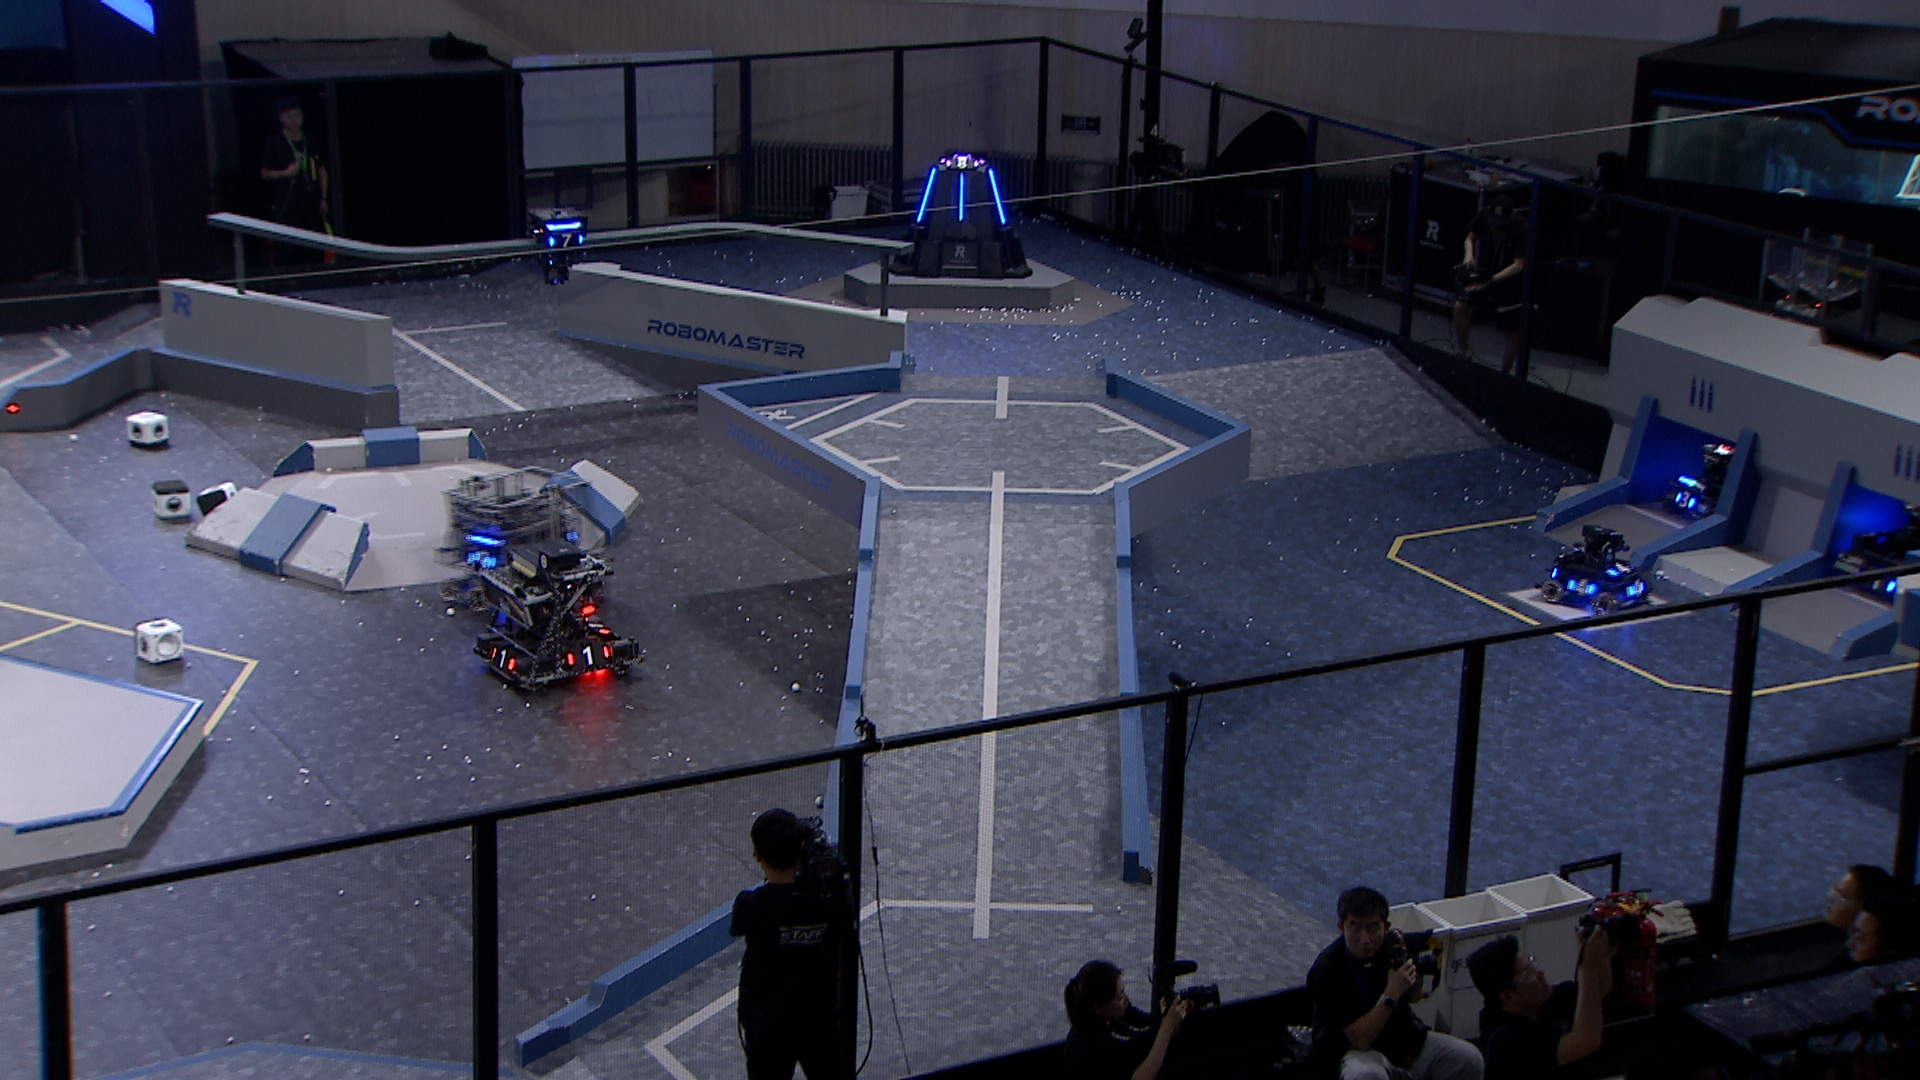armor: (982, 167, 1011, 224), (562, 642, 613, 671), (913, 167, 938, 223), (1861, 567, 1902, 597), (485, 640, 520, 675), (578, 611, 615, 641), (549, 233, 588, 255), (1565, 576, 1600, 600), (1673, 487, 1702, 514), (465, 547, 495, 574), (1602, 556, 1629, 580), (955, 171, 967, 220), (1625, 578, 1647, 599)
base: (884, 145, 1035, 282)
car: (468, 537, 646, 699), (439, 460, 585, 616), (1538, 522, 1659, 618), (1840, 488, 1920, 609), (1667, 438, 1768, 524)
ignore: (940, 154, 978, 171)
watcher: (526, 204, 589, 291)
